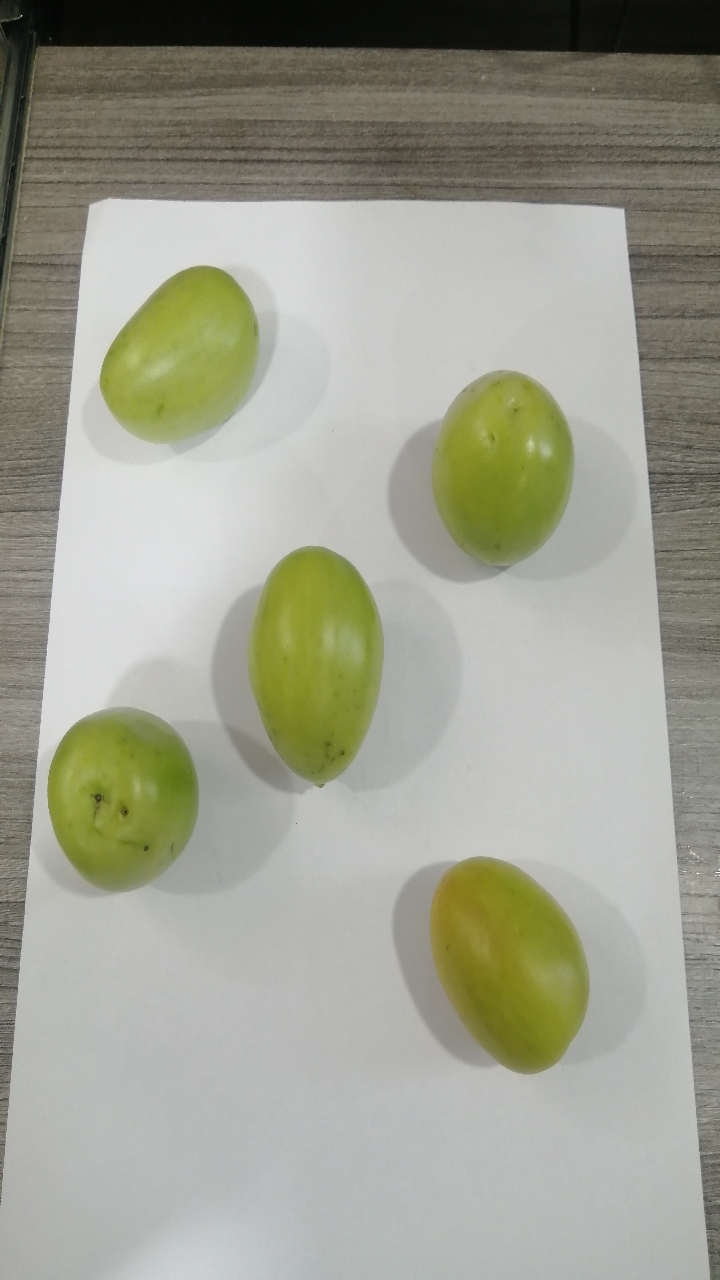tomateVerde: (234, 528, 414, 802), (31, 688, 235, 914), (417, 842, 604, 1085), (80, 249, 294, 455), (415, 348, 589, 579)
